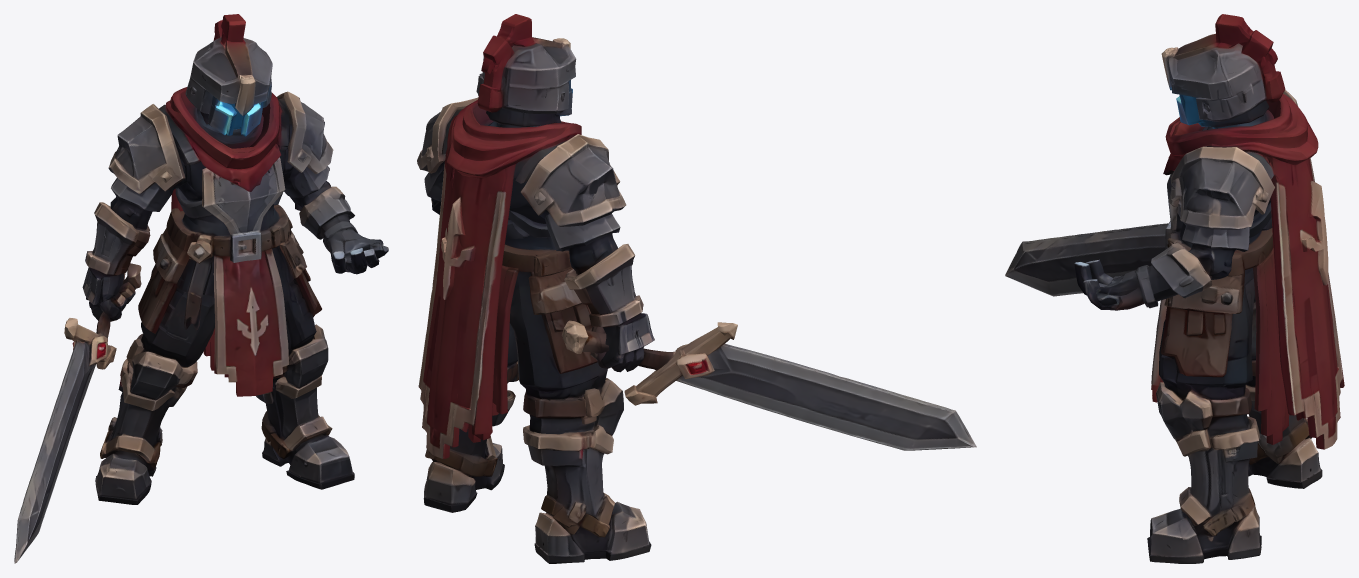
The model's file is rodin-spellblade-unrigged.glb.
3 views of the same model, side by side, from view 1: azimuth 30°, elevation 25°; view 2: azimuth 150°, elevation 25°; view 3: azimuth 270°, elevation 25° (orthographic). The views are drawn at different scales.
Parts seen in each view (by area): view 1: model; view 2: model; view 3: model.
Boxes of the visible parts, <box> form: model: <box>14,14,388,563</box>; model: <box>417,14,976,563</box>; model: <box>1005,14,1344,563</box>.
Size of the model in its own units: 1.81 by 1.9 by 1.17.
1 material, 1 textured.
